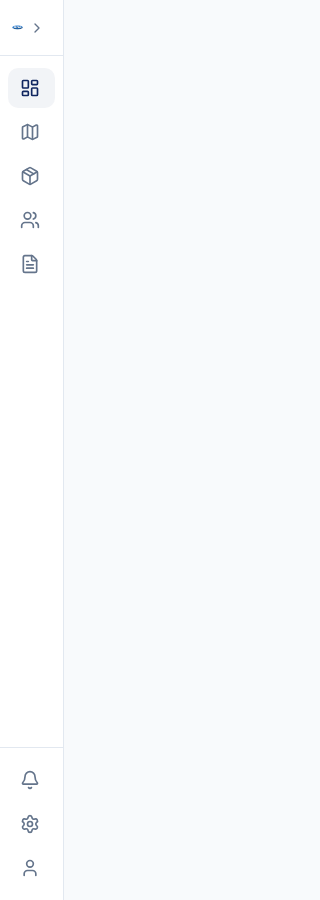
Scenario: Sidebar › shows labels after the collapse toggle is clicked, and persists the new state
Click the button named "développer le menu" at point(37, 28), box x1=23 y1=14 x2=51 y2=42
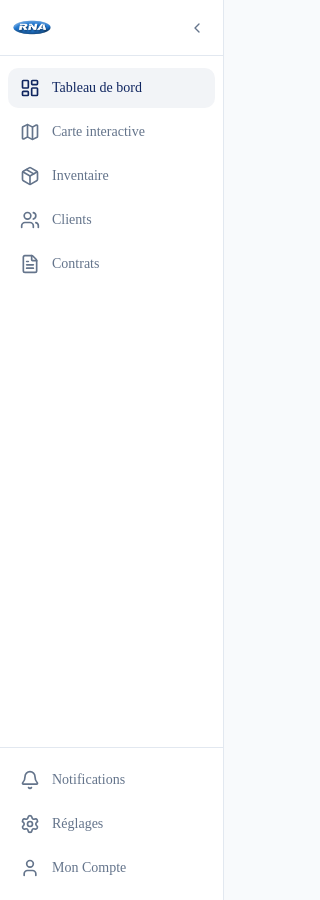
expect the text "Tableau de bord" is shown: met, box x1=52 y1=78 x2=142 y2=98
expect the text "Clients" is shown: met, box x1=52 y1=210 x2=92 y2=230
